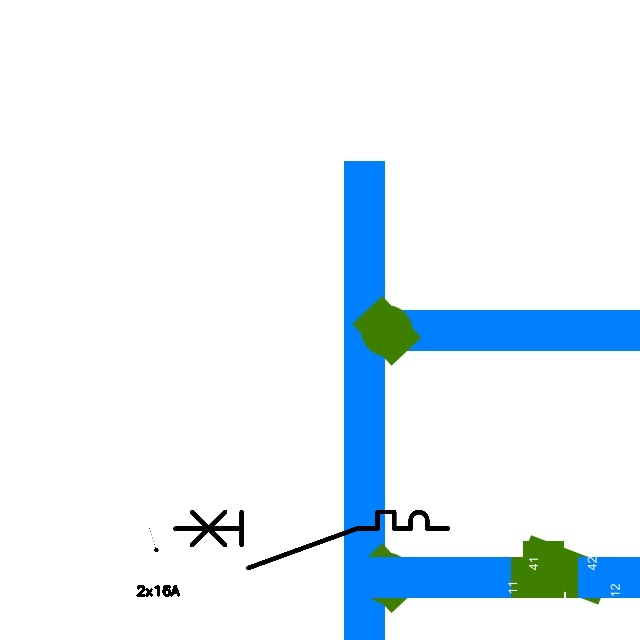interruptor_termomagnetico: (168, 505, 455, 575)
